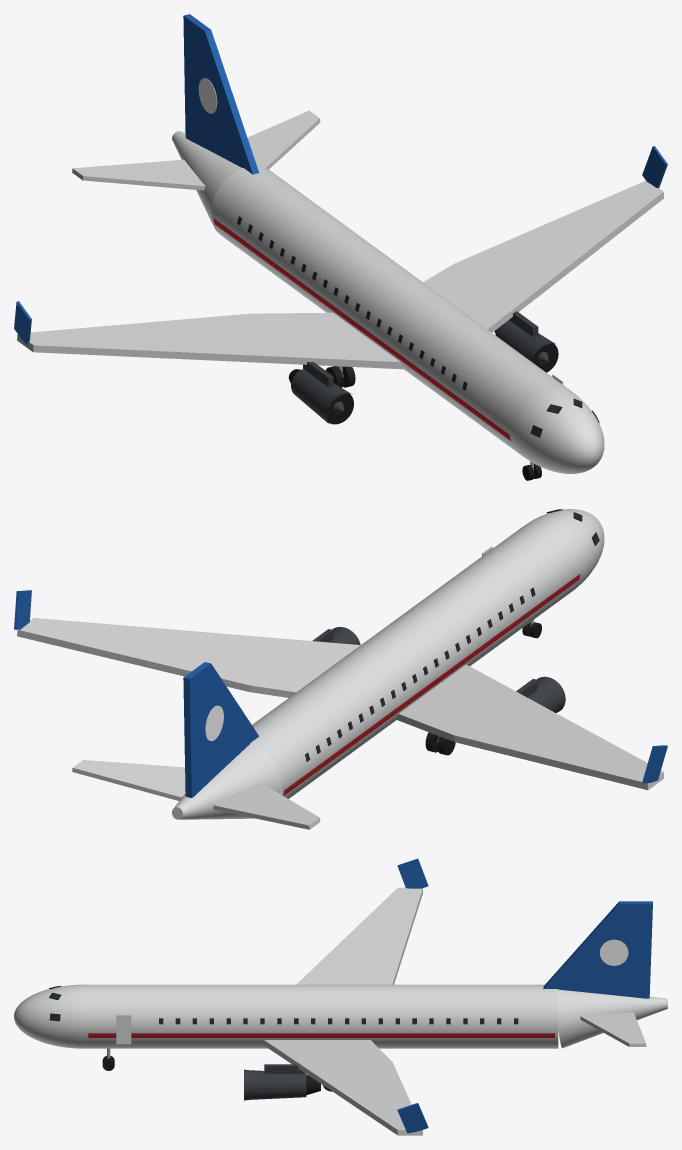
Rendered from avion-pasajeros.glb.
3 views of the same model, one above another, from view 1: azimuth 30°, elevation 25°; view 2: azimuth 150°, elevation 25°; view 3: azimuth 270°, elevation 25° (orthographic). The views are drawn at different scales.
Parts seen in each view (by area): view 1: Fuselage_Main, Wing_Right, Wing_Left, Fuselage_Nose, Tail_Fin, HStab_Right, Fuselage_TailCone, HStab_Left, Stripe_Right, Engine_Right_Nacelle, Engine_Left_Nacelle; view 2: Fuselage_Main, Wing_Right, Wing_Left, Tail_Fin, Fuselage_TailCone, HStab_Left, HStab_Right, Fuselage_Nose, Stripe_Right, Engine_Right_Nacelle, Winglet_Left, Winglet_Right (+1 smaller); view 3: Fuselage_Main, Wing_Left, Tail_Fin, Wing_Right, Fuselage_Nose, Fuselage_TailCone, Stripe_Left, Engine_Left_Nacelle, HStab_Left, Winglet_Right, Winglet_Left, Tail_LogoArea_Left (+1 smaller).
Boxes of the visible parts, x1=… form: Fuselage_Main: x1=211, y1=166, x2=569, y2=454; Wing_Right: x1=17, y1=312, x2=404, y2=369; Wing_Left: x1=423, y1=180, x2=664, y2=332; Fuselage_Nose: x1=512, y1=386, x2=604, y2=473; Tail_Fin: x1=183, y1=14, x2=258, y2=174; HStab_Right: x1=72, y1=159, x2=205, y2=190; Fuselage_TailCone: x1=172, y1=131, x2=258, y2=234; HStab_Left: x1=247, y1=110, x2=320, y2=169; Stripe_Right: x1=213, y1=218, x2=510, y2=440; Engine_Right_Nacelle: x1=291, y1=369, x2=348, y2=422; Engine_Left_Nacelle: x1=495, y1=320, x2=553, y2=359; Fuselage_Main: x1=250, y1=521, x2=582, y2=798; Wing_Right: x1=396, y1=664, x2=664, y2=790; Wing_Left: x1=17, y1=618, x2=360, y2=697; Tail_Fin: x1=183, y1=662, x2=259, y2=797; Fuselage_TailCone: x1=172, y1=743, x2=281, y2=819; HStab_Left: x1=72, y1=760, x2=185, y2=800; HStab_Right: x1=213, y1=782, x2=320, y2=829; Fuselage_Nose: x1=526, y1=509, x2=604, y2=590; Stripe_Right: x1=283, y1=574, x2=580, y2=795; Engine_Right_Nacelle: x1=527, y1=680, x2=561, y2=712; Winglet_Left: x1=14, y1=590, x2=31, y2=629; Winglet_Right: x1=642, y1=745, x2=667, y2=783; Fuselage_Main: x1=85, y1=984, x2=558, y2=1048; Wing_Left: x1=262, y1=1040, x2=422, y2=1135; Tail_Fin: x1=543, y1=901, x2=652, y2=998; Wing_Right: x1=296, y1=887, x2=422, y2=984; Fuselage_Nose: x1=14, y1=984, x2=84, y2=1048; Fuselage_TailCone: x1=558, y1=989, x2=667, y2=1048; Stripe_Left: x1=88, y1=1033, x2=554, y2=1037; Engine_Left_Nacelle: x1=249, y1=1070, x2=306, y2=1099; HStab_Left: x1=580, y1=1012, x2=646, y2=1046; Winglet_Right: x1=397, y1=858, x2=428, y2=888; Winglet_Left: x1=397, y1=1103, x2=428, y2=1133; Tail_LogoArea_Left: x1=599, y1=939, x2=628, y2=965.
Size of the model in its own units: 34.33 by 10.85 by 38.68.
